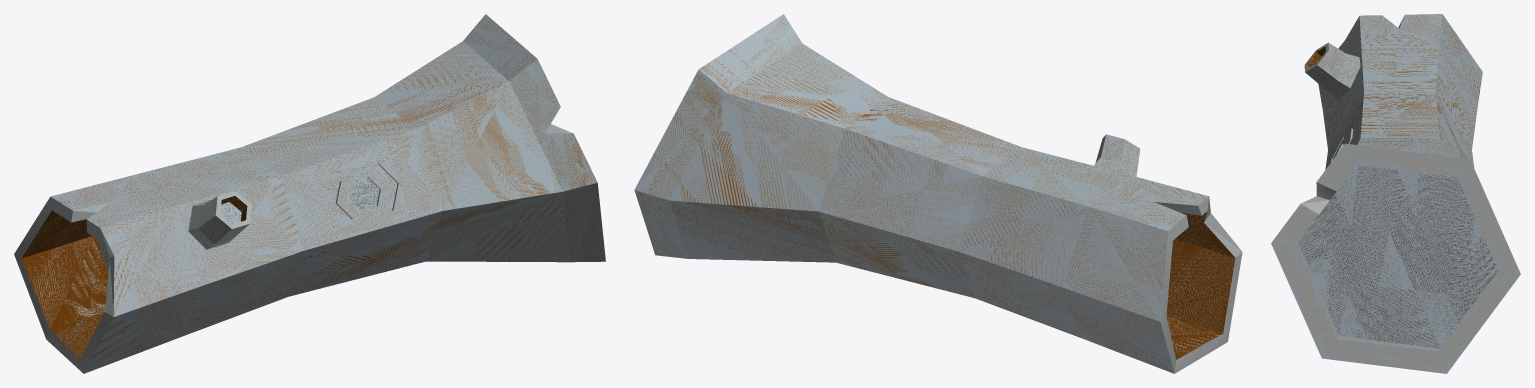
Rendered from Tree_Log_01.fbx.
3 views of the same model, side by side, from view 1: azimuth 30°, elevation 25°; view 2: azimuth 150°, elevation 25°; view 3: azimuth 270°, elevation 25° (orthographic). The views are drawn at different scales.
Parts seen in each view (by area): view 1: Model; view 2: Model; view 3: Model.
Part boxes in pixels (x1=…): Model: x1=14, y1=14, x2=605, y2=373; Model: x1=634, y1=14, x2=1242, y2=373; Model: x1=1271, y1=14, x2=1520, y2=373.
Bounding box in the file's own units: 371 × 147 × 168.
